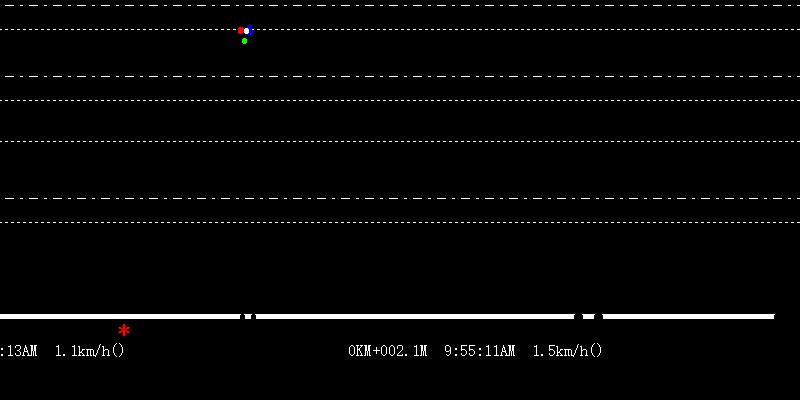face_2: (237, 21, 255, 39)
star: (115, 320, 131, 337)
